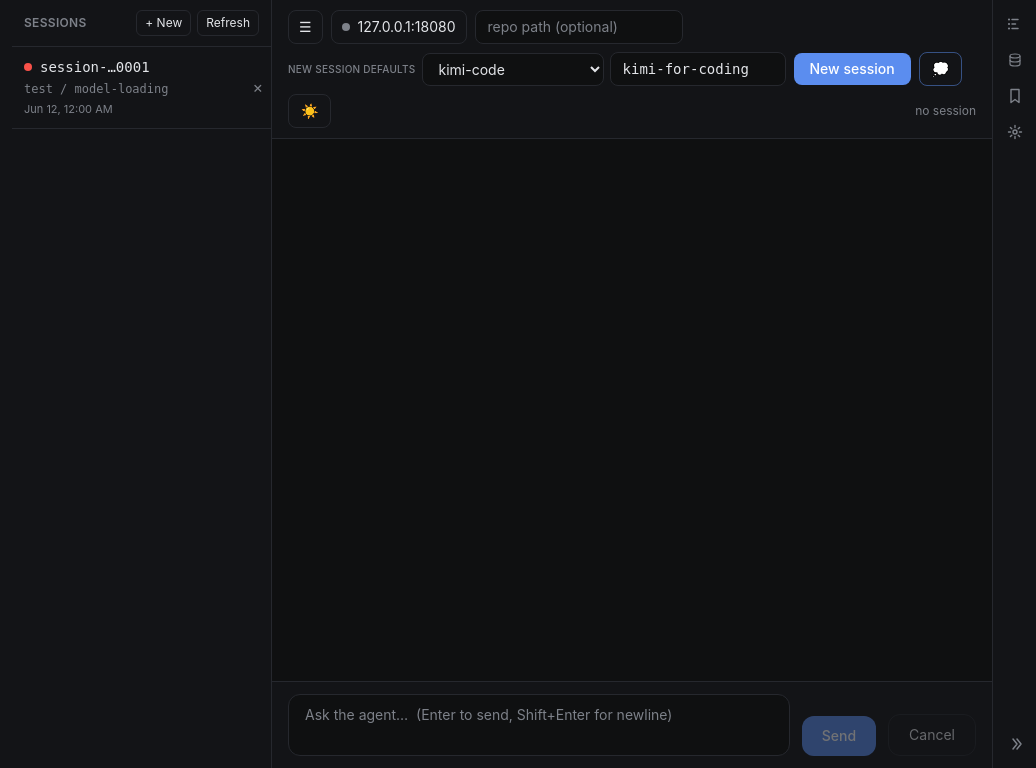
Test case: App session switching › disables sending while restored session metadata is loading
The image size is (1036, 768).
Click the button "session-…0001 test / model-loading Jun 12, 12:00 AM".
click(128, 87)  # box [12,47,244,128]
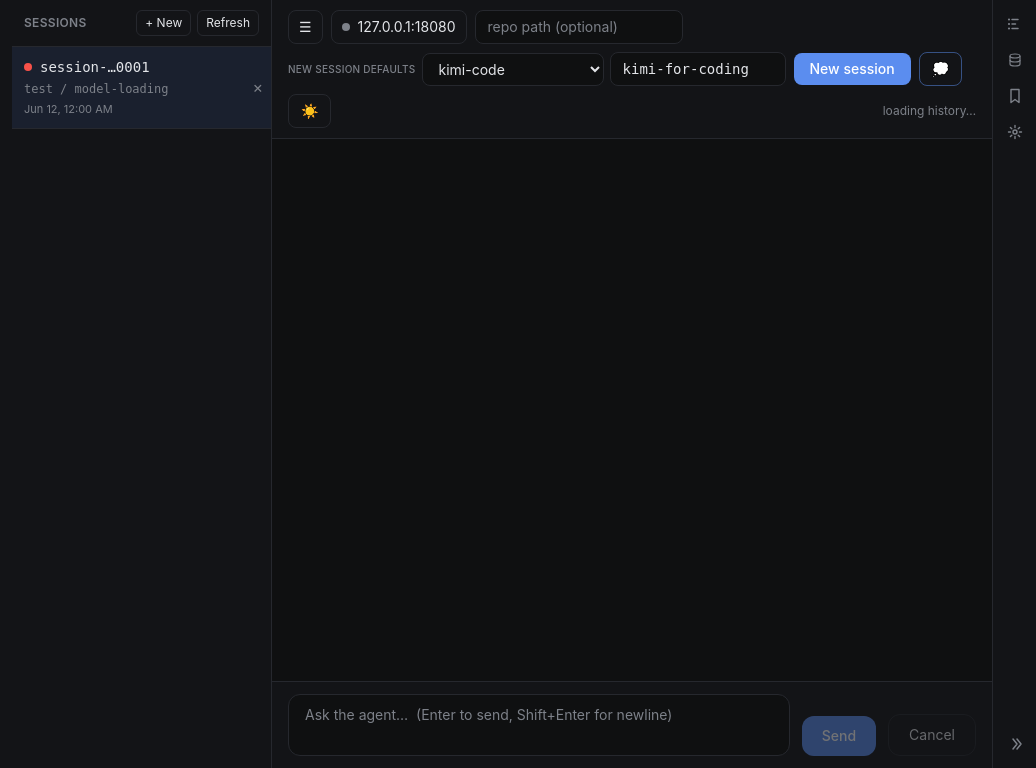
Type "too early" into the text box with placeholder "Ask the agent… (Enter to send, Shift+Enter for newline)".
click(539, 725); type("too early")  # box [288,694,790,756]
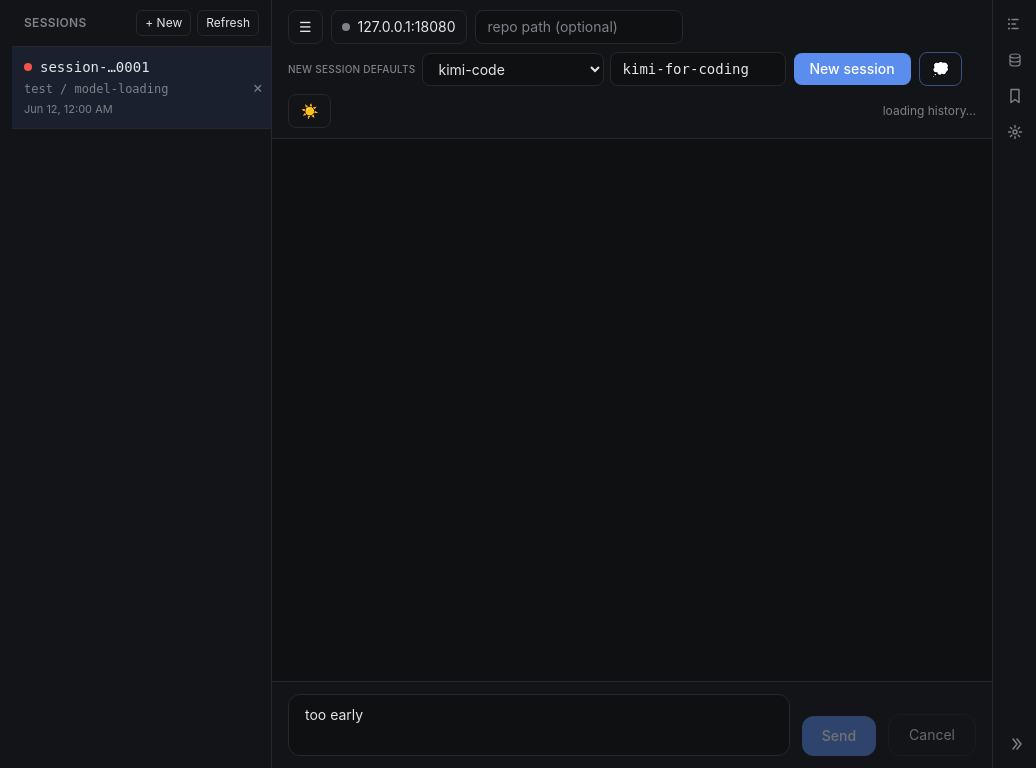
Click the button "Send".
click(839, 736)  # box [802,716,876,756]
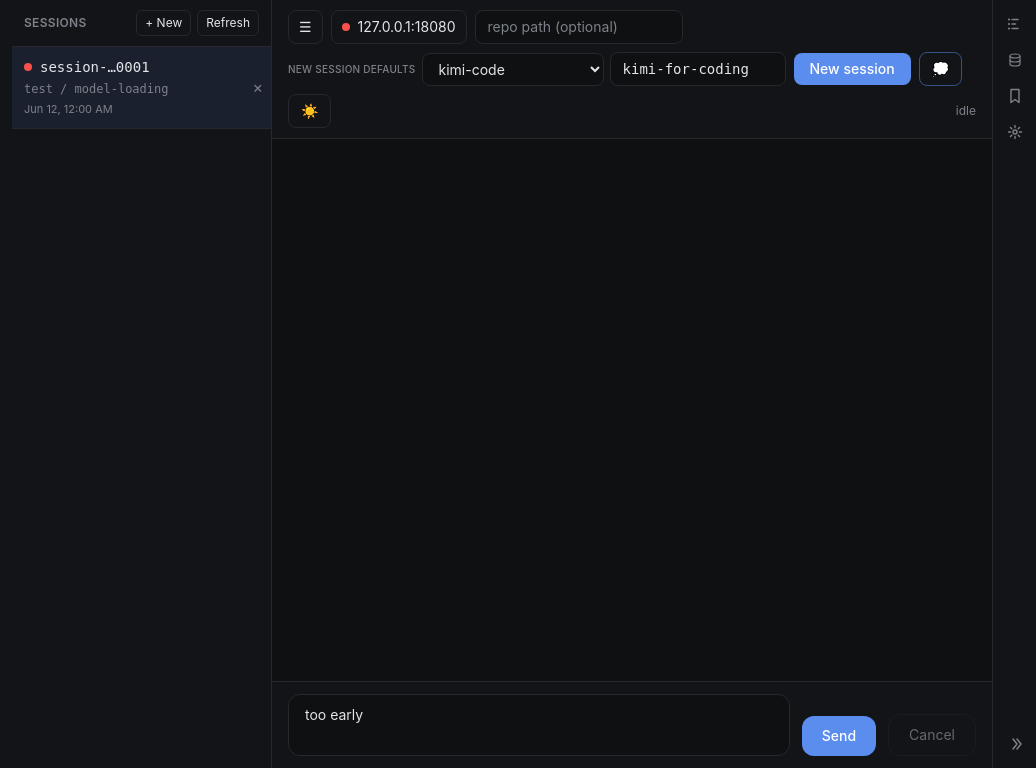
expect the text "idle" is shown: met, box [956,103,976,119]
